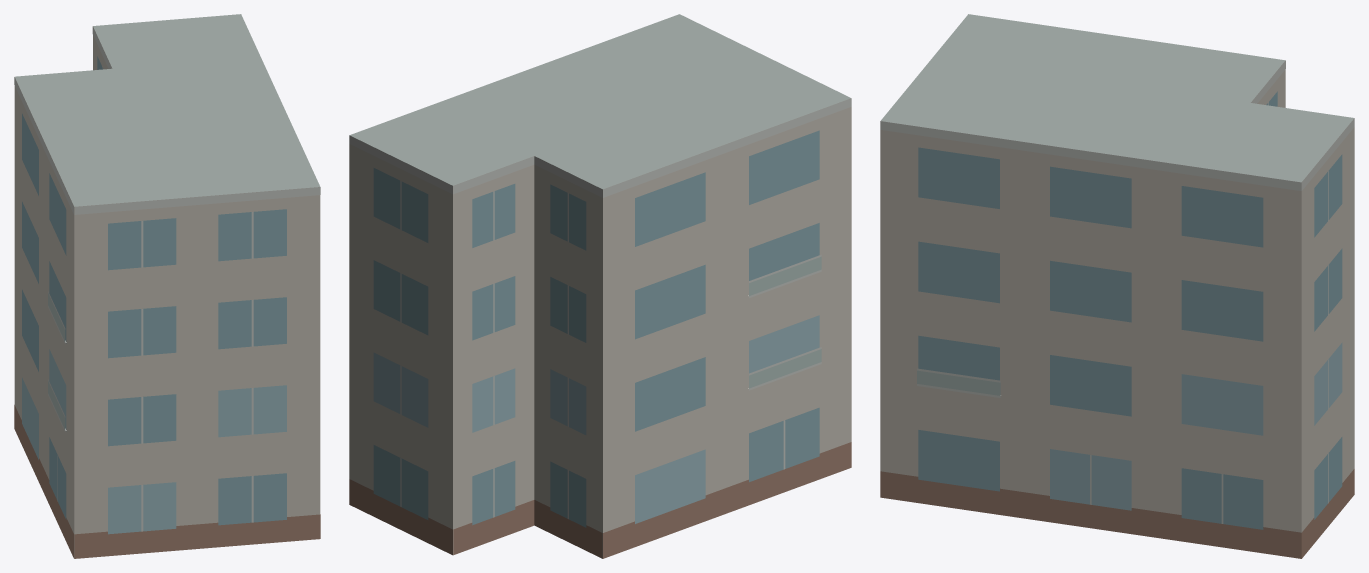
The model's file is survey-upis-32793694.glb.
3 renders of one model, left to right at view 1: azimuth 30°, elevation 25°; view 2: azimuth 150°, elevation 25°; view 3: azimuth 270°, elevation 25°, orthographic. The views are drawn at different scales.
Visible parts, largest first — view 1: survey-upis-32793694.tmp; view 2: survey-upis-32793694.tmp; view 3: survey-upis-32793694.tmp.
Part boxes in pixels (x1=…): survey-upis-32793694.tmp: x1=14, y1=14, x2=320, y2=558; survey-upis-32793694.tmp: x1=349, y1=14, x2=851, y2=558; survey-upis-32793694.tmp: x1=880, y1=14, x2=1354, y2=558.
Size of the model in its own units: 10.08 by 10.5 by 12.
